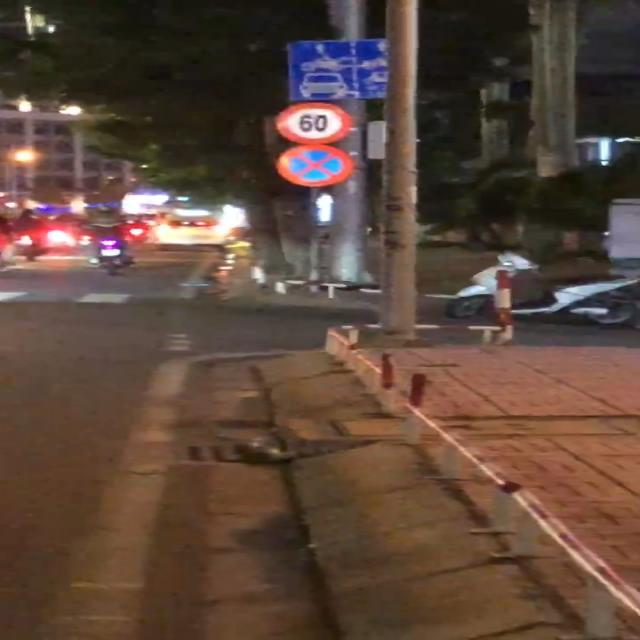Bien bao cam dung xe va do xe: (270, 142, 354, 192)
Bien bao toc do toi da cho phep: (274, 102, 362, 148)
